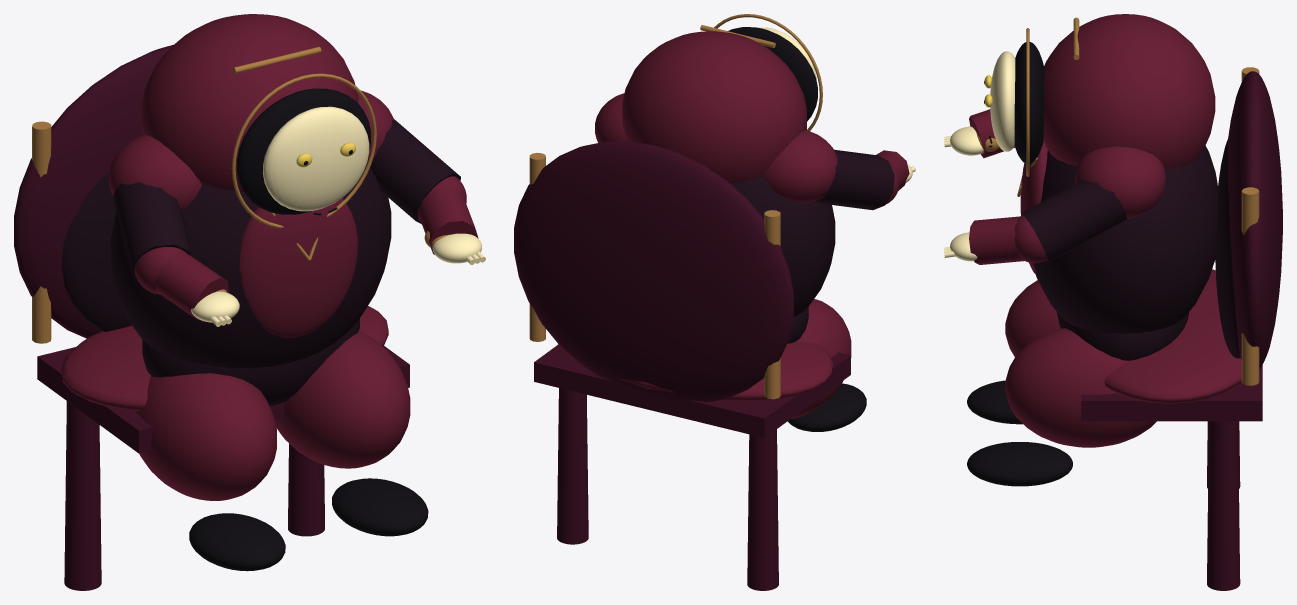
The model's file is opponent.glb.
3 renders of one model, left to right at view 1: azimuth 30°, elevation 25°; view 2: azimuth 150°, elevation 25°; view 3: azimuth 270°, elevation 25°, orthographic. The views are drawn at different scales.
Parts seen in each view (by area): view 1: SeatedTorso, RoundHood, ChairBack, BentKnee, _MeshInstance3D_235, RubyWaistcoat, PorcelainFace, ChairInset, ChairCushion, ChairLeg, HoodOpening, _MeshInstance3D_240 (+16 smaller); view 2: ChairBack, RoundHood, ChairSeatFrame, SeatedTorso, ChairLeg, _MeshInstance3D_234, RoundShoulder, BentSleeveUpper, ChairCushion, BentKnee, SmallShoe, HoodOpening (+5 smaller); view 3: RoundHood, SeatedTorso, ChairBack, _MeshInstance3D_235, ChairCushion, _MeshInstance3D_234, ChairSeatFrame, _MeshInstance3D_240, _MeshInstance3D_239, _MeshInstance3D_236, HoodOpening, ChairInset (+12 smaller).
Boxes of the visible parts, x1,y1,x2,y2 form: SeatedTorso: [110, 163, 391, 368]; RoundHood: [141, 14, 358, 191]; ChairBack: [14, 45, 172, 338]; BentKnee: [136, 373, 276, 500]; _MeshInstance3D_235: [275, 330, 410, 468]; RubyWaistcoat: [239, 198, 357, 337]; PorcelainFace: [263, 106, 369, 211]; ChairInset: [61, 171, 131, 331]; ChairCushion: [61, 306, 388, 410]; ChairLeg: [64, 401, 101, 590]; HoodOpening: [237, 88, 370, 214]; _MeshInstance3D_240: [370, 119, 460, 224]; ChairBack: [514, 141, 793, 401]; RoundHood: [622, 31, 806, 183]; ChairSeatFrame: [534, 344, 850, 437]; SeatedTorso: [730, 175, 835, 316]; ChairLeg: [747, 429, 778, 590]; _MeshInstance3D_234: [557, 388, 588, 544]; RoundShoulder: [763, 130, 837, 203]; BentSleeveUpper: [815, 149, 894, 210]; ChairCushion: [558, 341, 832, 401]; BentKnee: [791, 299, 851, 419]; SmallShoe: [788, 383, 866, 431]; HoodOpening: [728, 27, 817, 121]; RoundHood: [1043, 14, 1215, 169]; SeatedTorso: [1034, 146, 1218, 333]; ChairBack: [1227, 71, 1282, 368]; _MeshInstance3D_235: [1005, 328, 1156, 447]; ChairCushion: [1104, 269, 1241, 403]; _MeshInstance3D_234: [1207, 421, 1240, 590]; ChairSeatFrame: [1081, 365, 1262, 421]; _MeshInstance3D_240: [1021, 179, 1126, 262]; _MeshInstance3D_239: [1075, 146, 1165, 218]; _MeshInstance3D_236: [967, 442, 1072, 486]; HoodOpening: [1014, 42, 1043, 163]; ChairInset: [1215, 139, 1240, 358].
Size of the model in its own units: 0.6913 by 1.15 by 0.6909.
